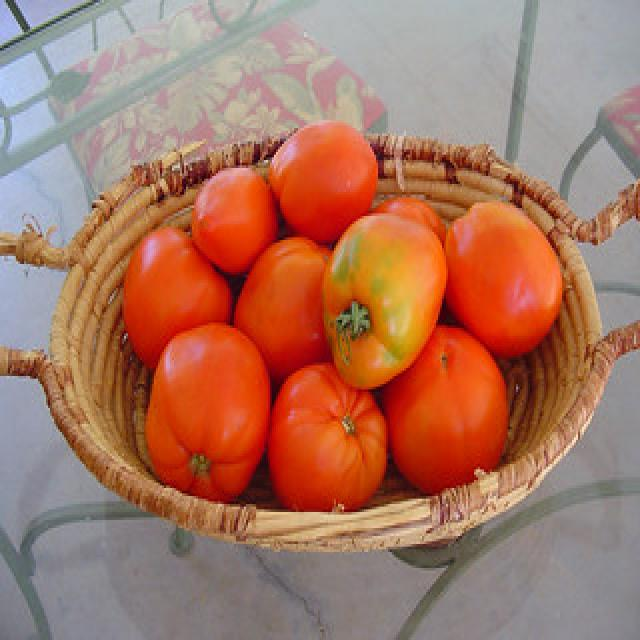Tomato: (143, 319, 274, 504), (385, 323, 509, 500), (442, 198, 566, 361), (266, 358, 390, 516), (122, 224, 234, 373), (232, 235, 342, 378), (267, 118, 379, 246), (189, 164, 279, 279)
